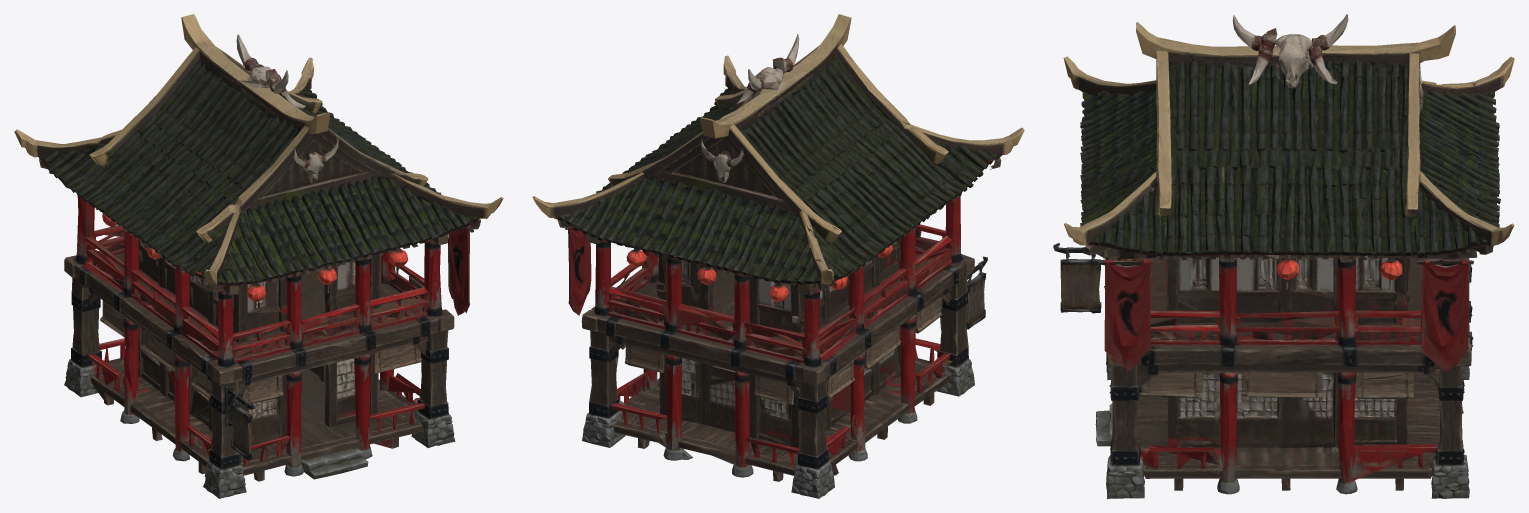
File: house_bal_b.glb
3 renders of one model, left to right at view 1: azimuth 30°, elevation 25°; view 2: azimuth 150°, elevation 25°; view 3: azimuth 270°, elevation 25°, orthographic. The views are drawn at different scales.
Visible parts, largest first — view 1: house_bal_b; view 2: house_bal_b; view 3: house_bal_b.
Boxes of the visible parts, x1,y1,x2,y2 form: house_bal_b: (14,14,503,498); house_bal_b: (532,14,1024,498); house_bal_b: (1053,14,1514,498).
Bounding box in the file's own units: 7.8 × 9 × 8.96.
1 material, 1 textured.
